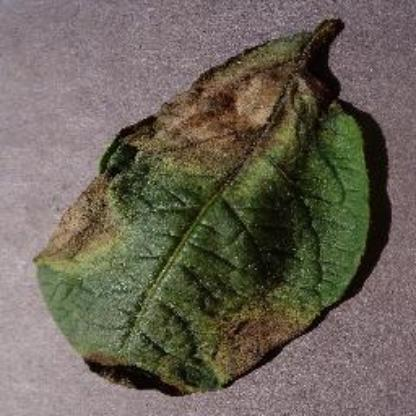Late-Blight: (29, 15, 375, 395)
